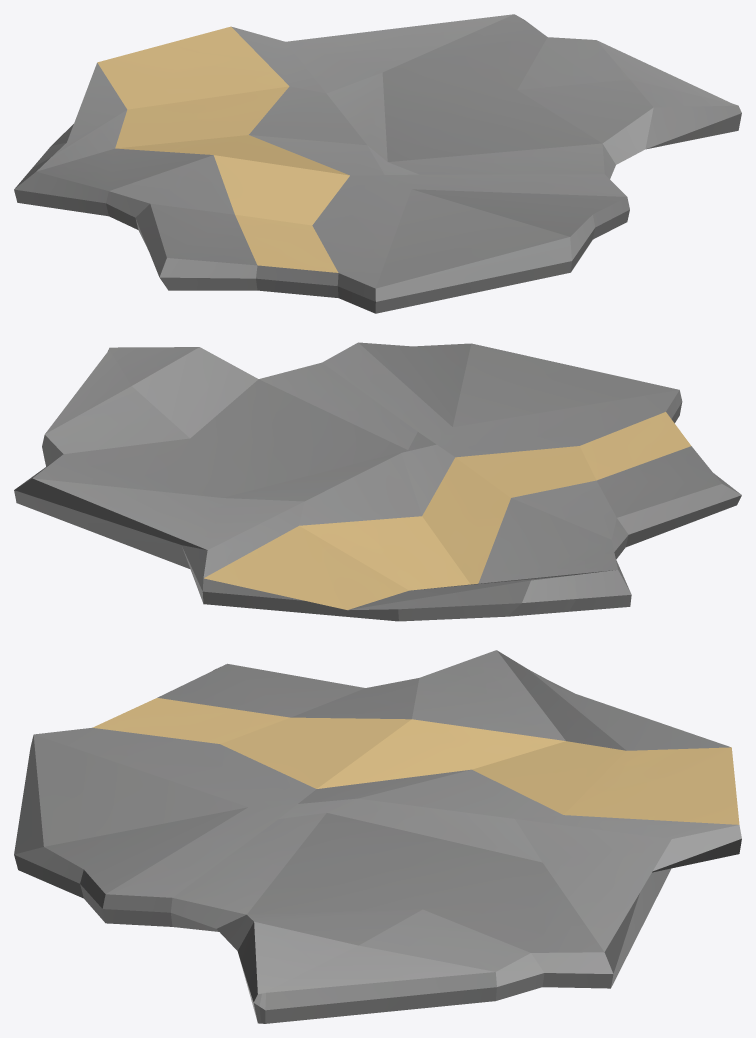
Rendered from road_chunk_2.glb.
The picture shows the model from 3 angles, top to bottom: view 1: azimuth 30°, elevation 25°; view 2: azimuth 150°, elevation 25°; view 3: azimuth 270°, elevation 25°; orthographic projection. The views are drawn at different scales.
Parts seen in each view (by area): view 1: road_chunk_2; view 2: road_chunk_2; view 3: road_chunk_2.
Part boxes in pixels (x1,y1,x2,y2): road_chunk_2: (14,14,741,313); road_chunk_2: (14,342,741,621); road_chunk_2: (14,650,741,1023).
Bounding box in the file's own units: 1.27 × 0.0891 × 1.11.
1 material, 1 textured.
